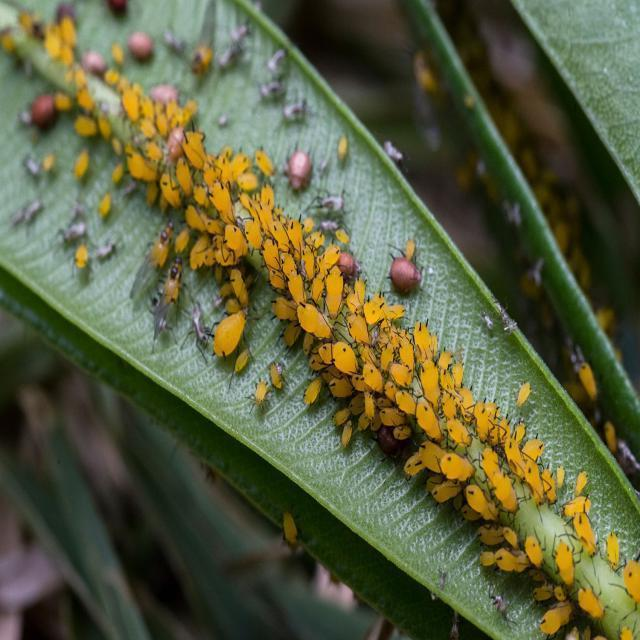aphid: (438, 436, 488, 486), (213, 301, 250, 362), (151, 156, 187, 218), (292, 290, 334, 338), (206, 164, 237, 219), (488, 467, 521, 517), (224, 258, 256, 304), (520, 448, 548, 500), (415, 358, 443, 406), (488, 467, 516, 511), (538, 600, 574, 634), (334, 338, 361, 381), (412, 440, 446, 474), (438, 452, 474, 482), (572, 507, 596, 552), (330, 340, 358, 376), (464, 483, 494, 516), (124, 150, 156, 180), (415, 400, 440, 438), (326, 266, 345, 315), (554, 540, 574, 584), (418, 407, 443, 442), (223, 222, 246, 260), (415, 318, 435, 360), (577, 587, 603, 619), (362, 362, 384, 398), (577, 362, 598, 399), (397, 334, 417, 372), (245, 215, 264, 253), (524, 535, 544, 569), (255, 150, 276, 182), (262, 236, 280, 272), (122, 86, 140, 121), (74, 113, 98, 138), (304, 376, 324, 406), (255, 149, 273, 177), (74, 149, 90, 180), (280, 248, 296, 278), (606, 532, 620, 566), (260, 183, 276, 210), (269, 362, 284, 390), (236, 171, 258, 190), (516, 381, 532, 407), (341, 420, 354, 448), (98, 191, 111, 218), (574, 471, 588, 496), (75, 244, 89, 269), (41, 152, 56, 174), (111, 42, 124, 66), (337, 134, 349, 160), (405, 238, 416, 261)
